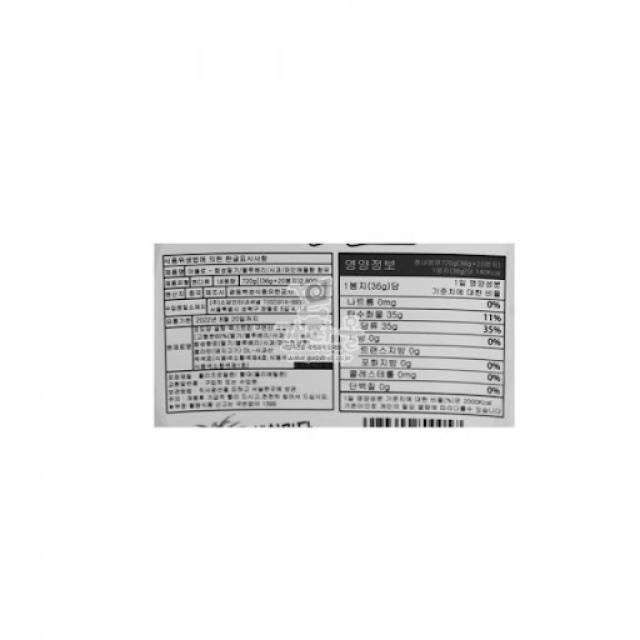Nutrition Label: (331, 244, 513, 421)
